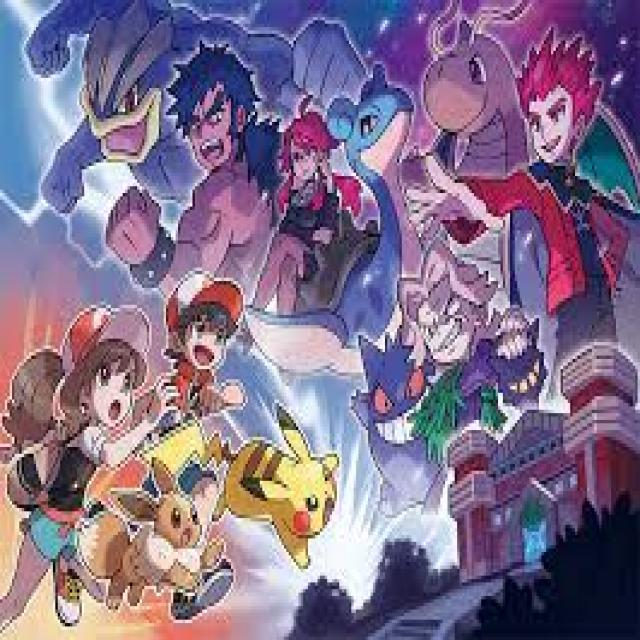Eevee: (118, 486, 204, 602)
Gengar: (358, 332, 439, 516)
Lapras: (288, 80, 418, 370)
Machamp: (46, 4, 213, 201)
Pikachu: (229, 434, 341, 544)
